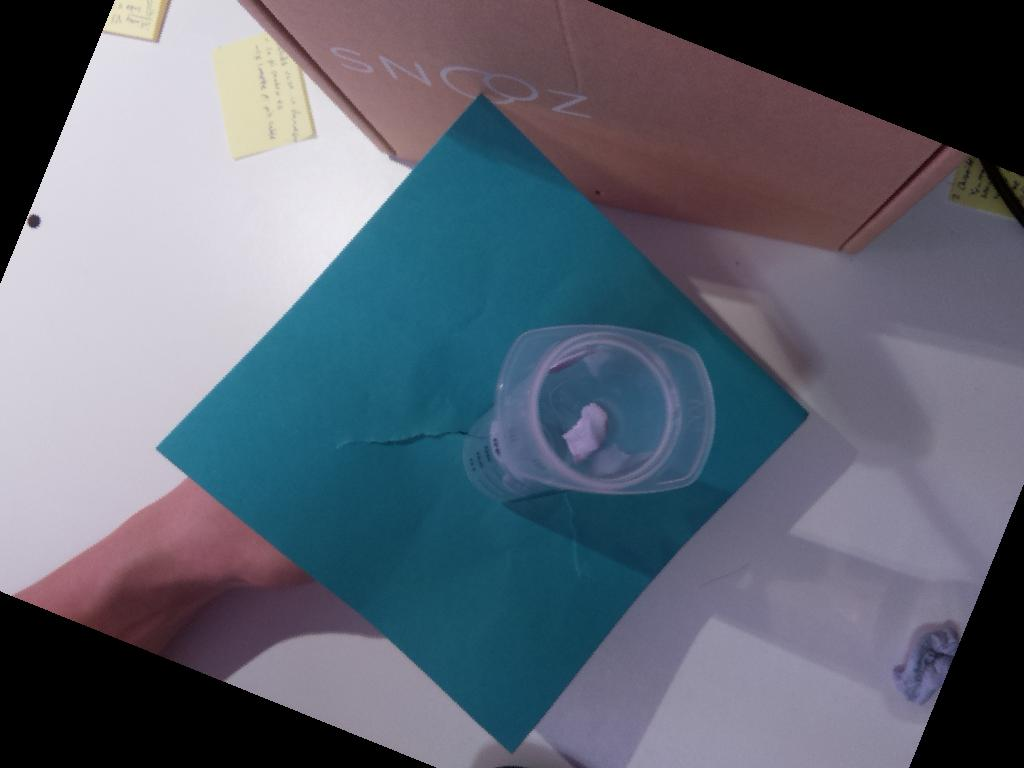dirty: (495, 324, 717, 496)
